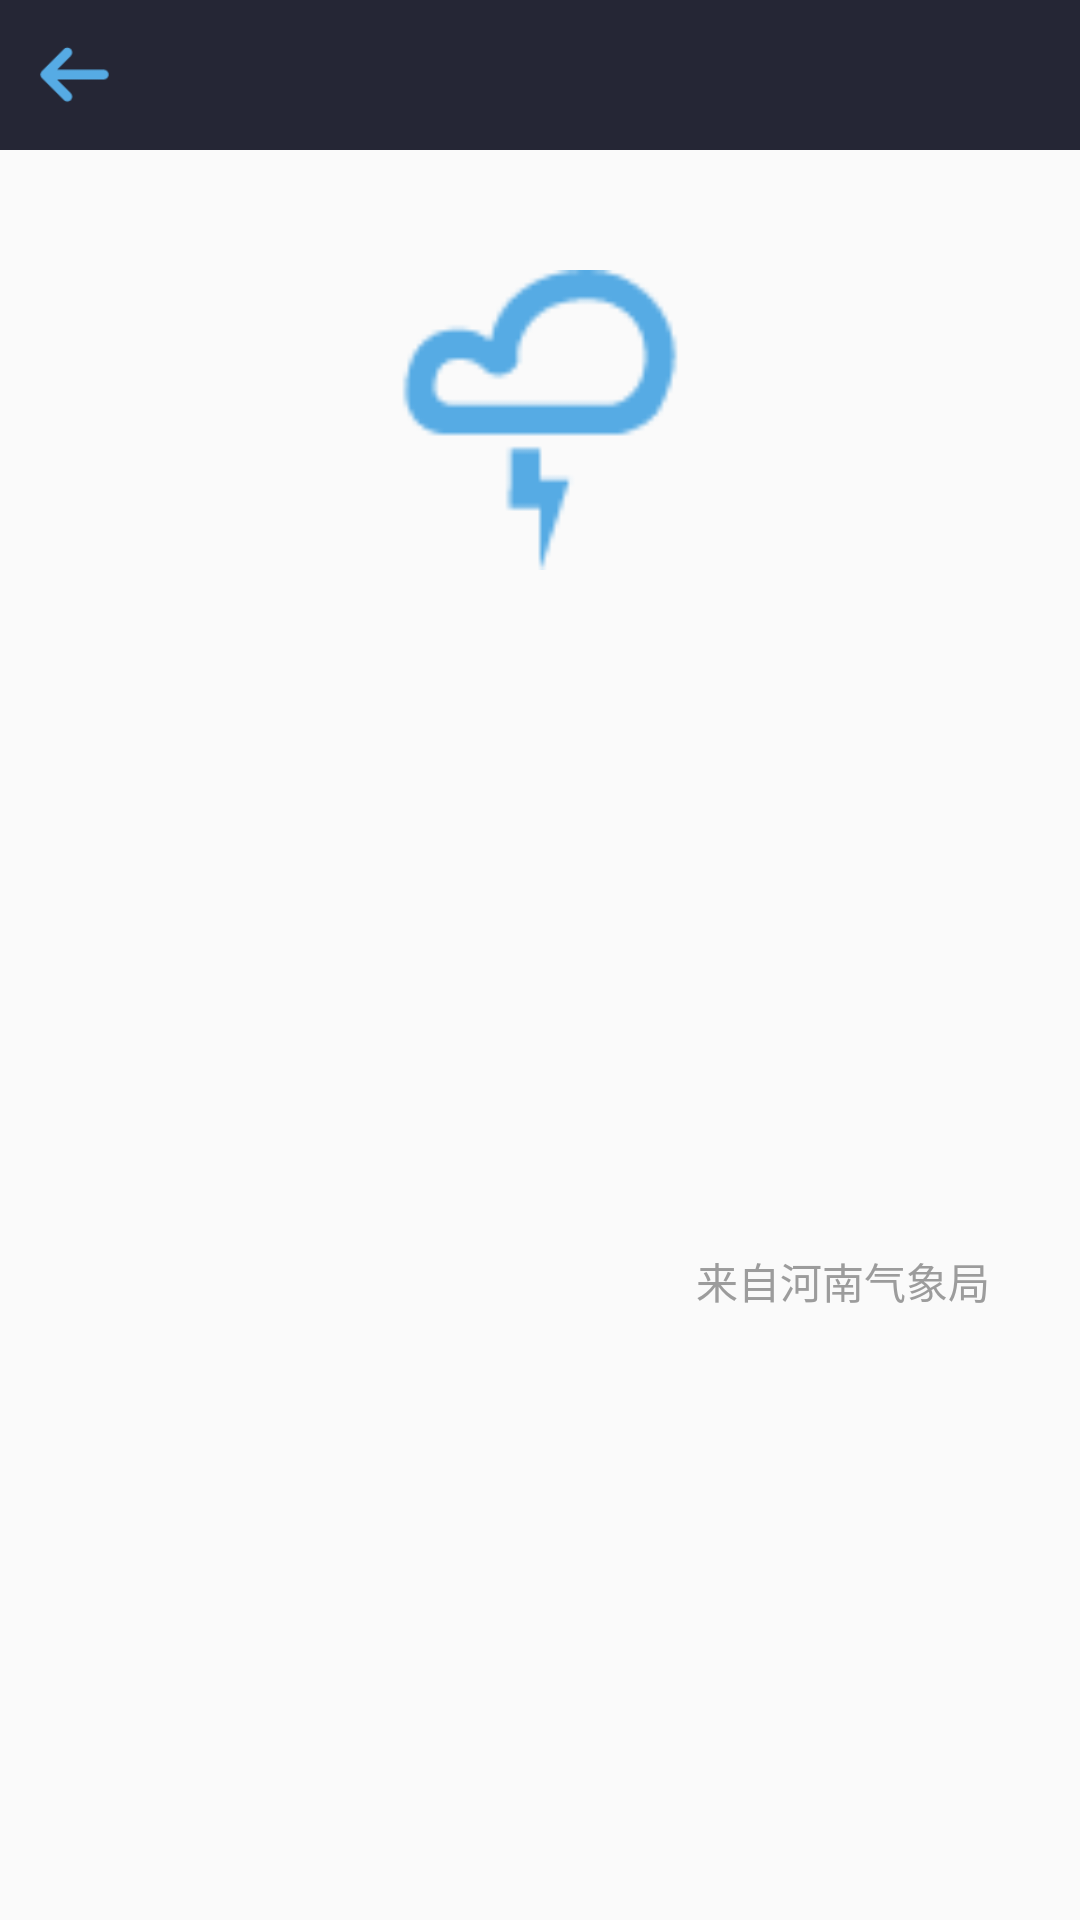

Named icons in this screenshot (1080x1920) and their centers, (x,y):
thunder: (540,420)
title back: (74,74)
